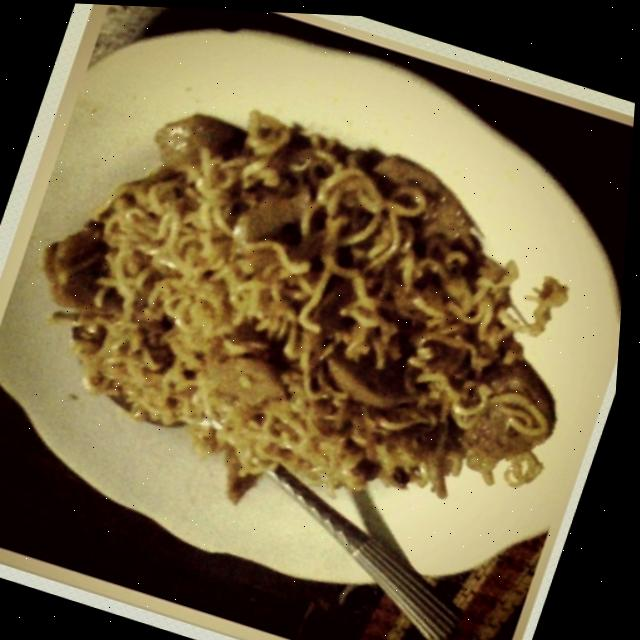面条主食: (0, 18, 639, 618)
